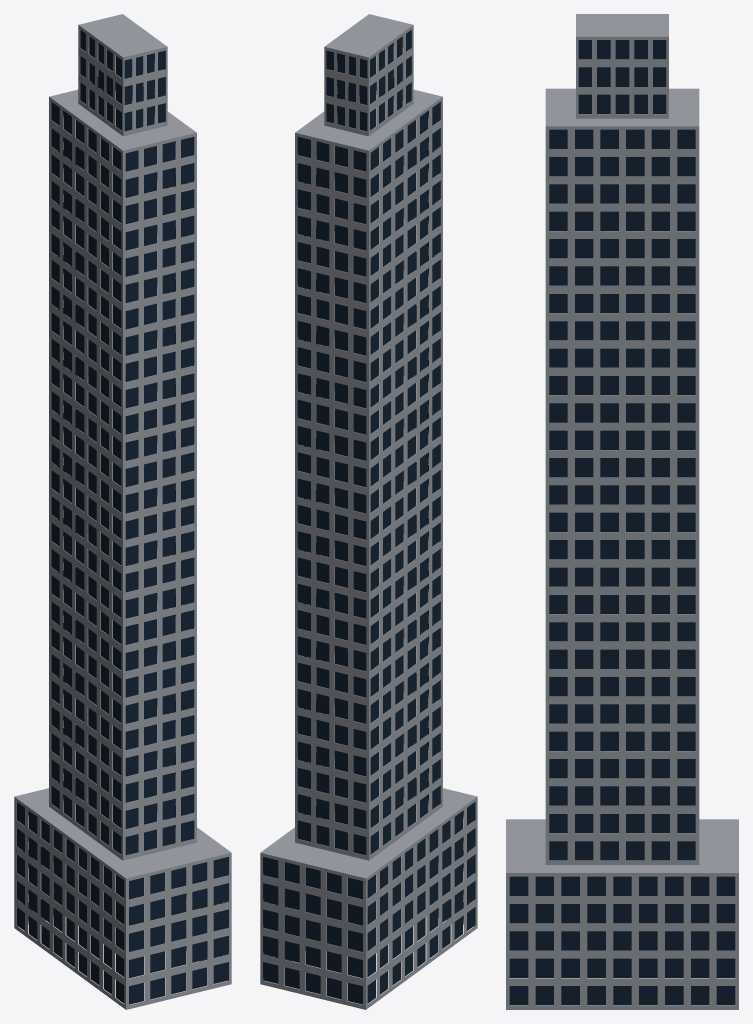
File: Residential Buildings 010.obj
3 views of the same model, side by side, from view 1: azimuth 30°, elevation 25°; view 2: azimuth 150°, elevation 25°; view 3: azimuth 270°, elevation 25° (orthographic). The views are drawn at different scales.
Visible parts, largest first — view 1: Residential; view 2: Residential; view 3: Residential.
Boxes of the visible parts, x1,y1,x2,y2 form: Residential: (14, 14, 231, 1009); Residential: (260, 14, 477, 1009); Residential: (506, 14, 738, 1009).
Bounding box in the file's own units: 12.59 × 105 × 23.1.
